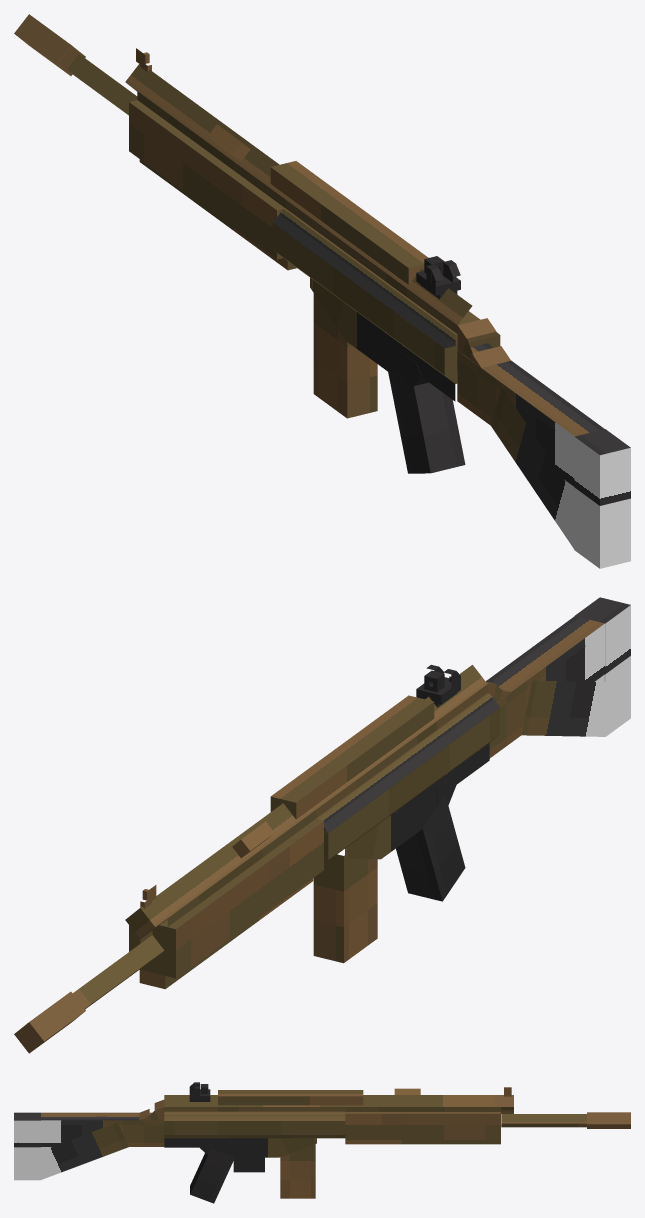
The model's file is aurorasarsenal_g3a3.glb.
3 renders of one model, top to bottom at view 1: azimuth 30°, elevation 25°; view 2: azimuth 150°, elevation 25°; view 3: azimuth 270°, elevation 25°, orthographic. The views are drawn at different scales.
Visible parts, largest first — view 1: Gun; view 2: Gun; view 3: Gun.
Part boxes in pixels (x1,y1,x2,y2): Gun: (14, 14, 630, 568); Gun: (14, 597, 630, 1053); Gun: (14, 1082, 630, 1203).
Size of the model in its own units: 0.0812 by 0.3024 by 1.49.
Materials: 1 (1 with a texture image).
